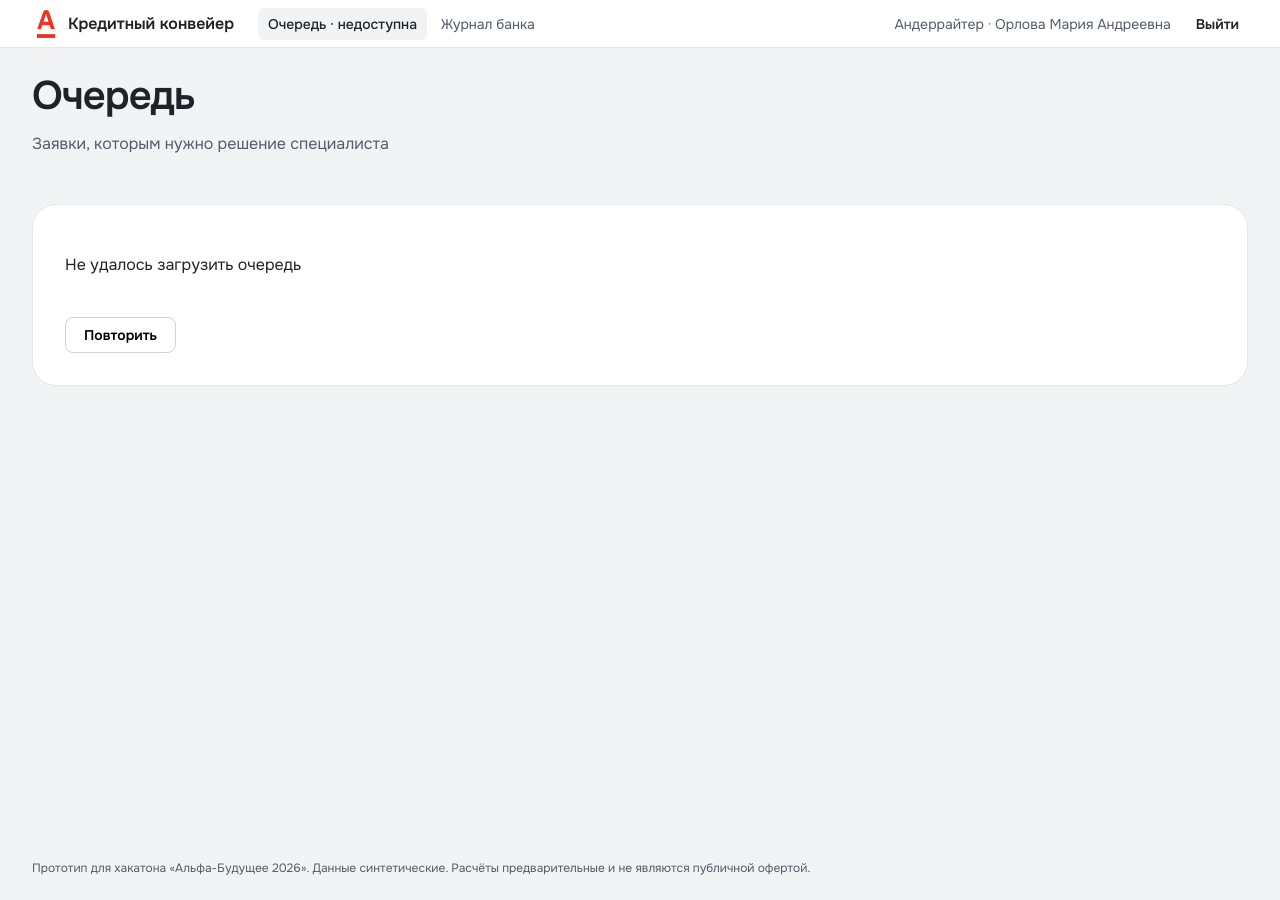
Test: 500 очереди показывает встроенную ошибку без уведомлений и позволяет повторить
Expected: the text "Не удалось загрузить очередь" is shown, x1=65 y1=254 x2=301 y2=275
Expected: the link "Очередь · недоступна" is shown, x1=258 y1=8 x2=427 y2=40
Click the button "Повторить" at [121, 335], box x1=65 y1=317 x2=176 y2=353
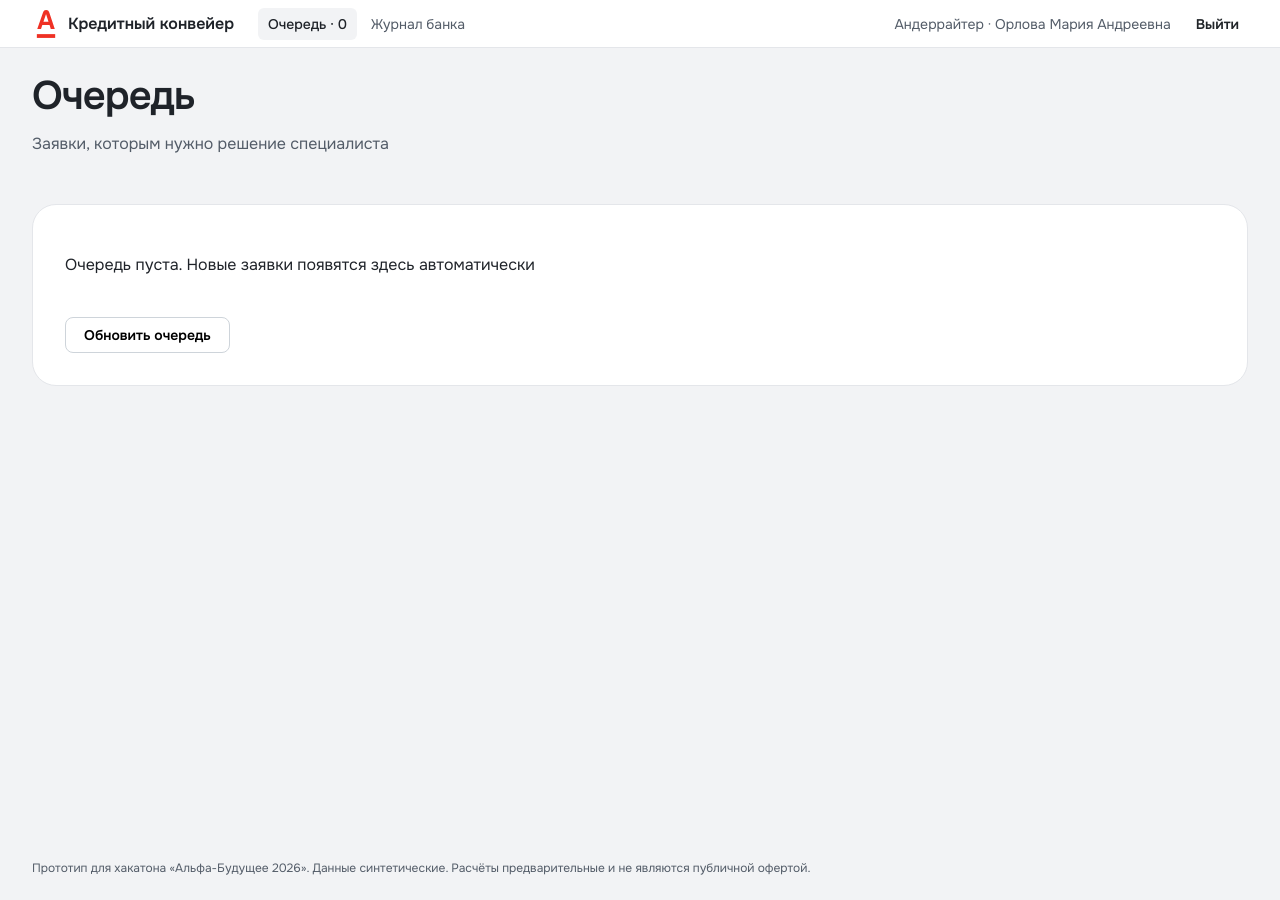
Result: the text "Очередь пуста. Новые заявки появятся здесь автоматически" is shown at x1=65 y1=254 x2=535 y2=275
